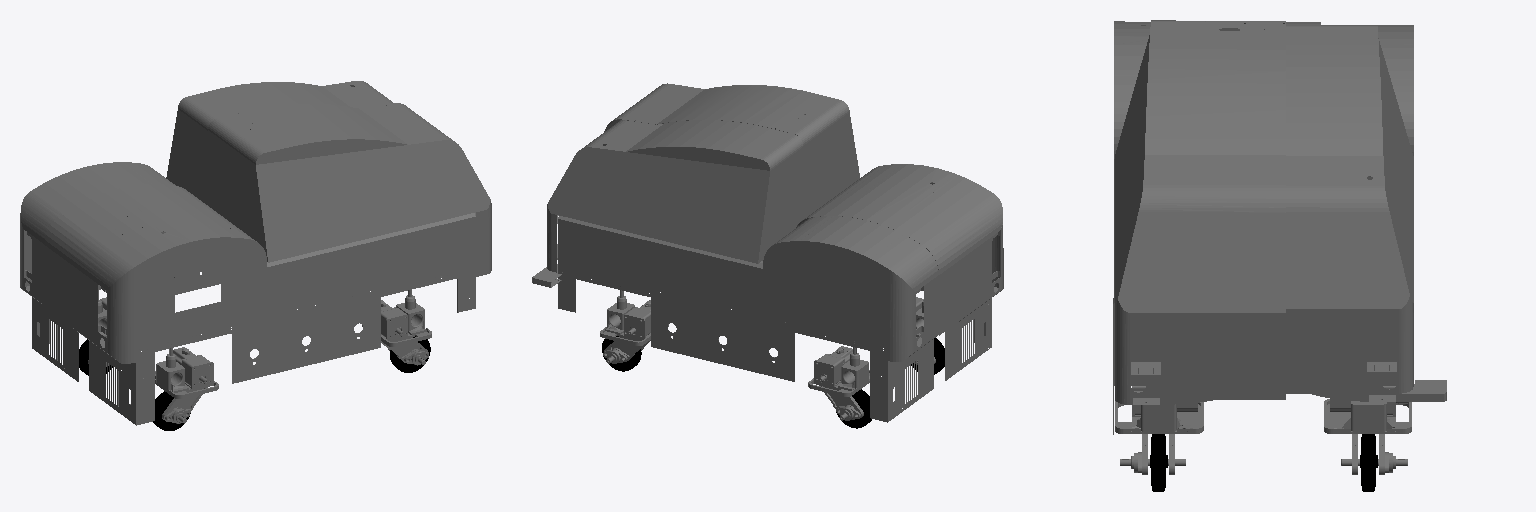
robot.urdf — panthera:
<?xml version="1.0" ?>
<robot name="panthera" xmlns:xacro="http://ros.org/wiki/xacro">

  <material name="blue">
    <color rgba="0 0 0.8 1"/>
  </material>

  <material name="black">
    <color rgba="0 0 0 1"/>
  </material>

  <material name="white">
    <color rgba="1 1 1 1"/>
  </material>

  <material name="gray">
    <color rgba="0.5 0.5 0.5 1"/>
  </material>

  <!-- links -->
  <link name="base_footprint"/>

  <joint name="base_joint" type="fixed">
    <parent link="base_footprint"/>
    <child link="base_link"/>
    <origin xyz="0.0 0.0 0.010" rpy="0 0 0"/>
  </joint>

  <link name="base_link">
    <visual>
        <origin xyz="0 0 0" rpy="0 0 0"/>
        <geometry>
            <box size="0.20597 0.216606 0.169247"/>
        </geometry>
        <material name="gray"/>
    </visual>
    <collision>
        <origin xyz="0 0 0" rpy="0 0 0"/>
        <geometry>
            <box size="0.20597 0.216606 0.169247"/>
        </geometry>
    </collision>
    <inertial>
      <origin xyz="0 0 0" rpy="0 0 0"/>
      <mass value="1"/>
      <inertia ixx="0.166667" ixy="0.000000" ixz="0.000000" iyy="0.166667" iyz="0.000000" izz="0.166667"/>
    </inertial>
  </link>

  <link name="base_left">
    <visual>
      <geometry>
        <mesh filename="package://panthera_description/meshes/base_left.stl"/>
      </geometry>
      <material name="gray"/>
      <origin xyz="0.0 0 0" rpy="0 0 0"/>
    </visual>
    <collision>
      <geometry>
        <mesh filename="package://panthera_description/meshes/base_left.stl"/>
      </geometry>
      <origin xyz="0.0 0 0" rpy="0 0 0"/>
    </collision>
    <inertial>
      <origin xyz="0 0.35 0" rpy="0 0 0"/>
      <mass value="1"/>
      <inertia ixx="0.166667" ixy="0.000000" ixz="0.000000" iyy="0.166667" iyz="0.000000" izz="0.166667"/>
    </inertial>
  </link>

  <link name="base_left_cover">
    <visual>
      <geometry>
        <mesh filename="package://panthera_description/meshes/base_left_cover.dae"/>
      </geometry>
      <material name="gray"/>
      <origin xyz="0.0 0 0" rpy="0 0 0"/>
    </visual>
    <collision>
      <geometry>
        <mesh filename="package://panthera_description/meshes/base_left_cover.dae"/>
      </geometry>
      <origin xyz="0.0 0 0" rpy="0 0 0"/>
    </collision>
    <inertial>
      <origin xyz="0 0 0" rpy="0 0 0"/>
      <mass value="1"/>
      <inertia ixx="0.166667" ixy="0.000000" ixz="0.000000" iyy="0.166667" iyz="0.000000" izz="0.166667"/>
    </inertial>
  </link>

  <link name="base_right">
    <visual>
      <geometry>
        <mesh filename="package://panthera_description/meshes/base_right.stl"/>
      </geometry>
      <material name="gray"/>
      <origin xyz="0 0 0" rpy="0 0 0"/>
    </visual>
    <collision>
      <geometry>
        <mesh filename="package://panthera_description/meshes/base_right.stl"/>
      </geometry>
      <origin xyz="0 0 0" rpy="0 0 0"/>
    </collision>
    <inertial>
      <origin xyz="0 -0.35 0" rpy="0 0 0"/>
      <mass value="1"/>
      <inertia ixx="0.166667" ixy="0.000000" ixz="0.000000" iyy="0.166667" iyz="0.000000" izz="0.166667"/>
    </inertial>
  </link>

  <link name="base_right_cover">
    <visual>
      <geometry>
        <mesh filename="package://panthera_description/meshes/base_right_cover.dae"/>
      </geometry>
      <material name="gray"/>
      <origin xyz="0 0 0" rpy="0 0 0"/>
    </visual>
    <collision>
      <geometry>
        <mesh filename="package://panthera_description/meshes/base_right_cover.dae"/>
      </geometry>
      <origin xyz="0 0 0" rpy="0 0 0"/>
    </collision>
    <inertial>
      <origin xyz="0 0 0" rpy="0 0 0"/>
      <mass value="1"/>
      <inertia ixx="0.166667" ixy="0.000000" ixz="0.000000" iyy="0.166667" iyz="0.000000" izz="0.166667"/>
    </inertial>
  </link>

  <link name="fl_steering_link">
    <visual>
      <geometry>
        <mesh filename="package://panthera_description/meshes/wheel_holder_front_left.stl"/>
      </geometry>
      <material name="gray"/>
      <origin xyz="0.0 0.0 0.0" rpy="0 0 0"/>
    </visual>
    <collision>
      <geometry>
        <mesh filename="package://panthera_description/meshes/wheel_holder_front_left.stl"/>
      </geometry>
      <origin xyz="0.0 0.0 0.0" rpy="0 0 0"/>
    </collision>
    <inertial>
      <origin rpy="0 0 0" xyz="0 0 0"/>
      <mass value="1"/>
      <inertia ixx="0.166667" ixy="0.000000" ixz="0.000000" iyy="0.166667" iyz="0.000000" izz="0.166667"/>
    </inertial>
  </link>

  <link name="fr_steering_link">
    <visual>
      <geometry>
        <mesh filename="package://panthera_description/meshes/wheel_holder_front_right.stl"/>
      </geometry>
      <material name="gray"/>
      <origin xyz="0.0 0.0 0.0" rpy="0 0 0"/>
    </visual>
    <collision>
      <geometry>
        <mesh filename="package://panthera_description/meshes/wheel_holder_front_right.stl"/>
      </geometry>
      <origin xyz="0.0 0.0 0.0" rpy="0 0 0"/>
    </collision>
    <inertial>
      <origin rpy="0 0 0" xyz="0 0 0"/>
      <mass value="1"/>
      <inertia ixx="0.166667" ixy="0.000000" ixz="0.000000" iyy="0.166667" iyz="0.000000" izz="0.166667"/>
    </inertial>
  </link>

  <link name="rl_steering_link">
    <visual>
      <geometry>
        <mesh filename="package://panthera_description/meshes/wheel_holder_rear_left.stl"/>
      </geometry>
      <material name="gray"/>
      <origin xyz="0.0 0.0 0.0" rpy="0 0 0"/>
    </visual>
    <collision>
      <geometry>
        <mesh filename="package://panthera_description/meshes/wheel_holder_rear_left.stl"/>
      </geometry>
      <origin xyz="0.0 0.0 0.0" rpy="0 0 0"/>
    </collision>
    <inertial>
      <origin rpy="0 0 0" xyz="0 0 0"/>
      <mass value="1"/>
      <inertia ixx="0.166667" ixy="0.000000" ixz="0.000000" iyy="0.166667" iyz="0.000000" izz="0.166667"/>
    </inertial>
  </link>

  <link name="rr_steering_link">
    <visual>
      <geometry>
        <mesh filename="package://panthera_description/meshes/wheel_holder_rear_right.stl"/>
      </geometry>
      <material name="gray"/>
      <origin xyz="0.0 0.0 0.0" rpy="0 0 0"/>
    </visual>
    <collision>
      <geometry>
        <mesh filename="package://panthera_description/meshes/wheel_holder_rear_right.stl"/>
      </geometry>
      <origin xyz="0.0 0.0 0.0" rpy="0 0 0"/>
    </collision>
    <inertial>
      <origin rpy="0 0 0" xyz="0 0 0"/>
      <mass value="1"/>
      <inertia ixx="0.166667" ixy="0.000000" ixz="0.000000" iyy="0.166667" iyz="0.000000" izz="0.166667"/>
    </inertial>
  </link>

  <link name="fl_wheel_link">
    <visual>
      <geometry>
        <mesh filename="package://panthera_description/meshes/l_wheel.stl"/>
      </geometry>
      <material name="black"/>
      <origin xyz="0.0 0.0 0.0" rpy="0 0 0"/>
    </visual>
    <collision>
      <geometry>
        <mesh filename="package://panthera_description/meshes/l_wheel.stl"/>
      </geometry>
      <origin xyz="0.0 0.0 0.0" rpy="0 0 0"/>
    </collision>
    <inertial>
      <origin rpy="0 0 0" xyz="0 0 0"/>
      <mass value="1"/>
      <inertia ixx="0.166667" ixy="0.000000" ixz="0.000000" iyy="0.166667" iyz="0.000000" izz="0.166667"/>
    </inertial>
  </link>

  <link name="rl_wheel_link">
    <visual>
      <geometry>
        <mesh filename="package://panthera_description/meshes/l_wheel.stl"/>
      </geometry>
      <material name="black"/>
      <origin xyz="0.0 0.0 0.0" rpy="0 0 0"/>
    </visual>
    <collision>
      <geometry>
        <mesh filename="package://panthera_description/meshes/l_wheel.stl"/>
      </geometry>
      <origin xyz="0.0 0.0 0.0" rpy="0 0 0"/>
    </collision>
    <inertial>
      <origin rpy="0 0 0" xyz="0 0 0"/>
      <mass value="1"/>
      <inertia ixx="0.166667" ixy="0.000000" ixz="0.000000" iyy="0.166667" iyz="0.000000" izz="0.166667"/>
    </inertial>
  </link>

  <link name="fr_wheel_link">
    <visual>
      <geometry>
        <mesh filename="package://panthera_description/meshes/r_wheel.stl"/>
      </geometry>
      <material name="black"/>
      <origin xyz="0.0 0.0 0.0" rpy="0 0 0"/>
    </visual>
    <collision>
      <geometry>
        <mesh filename="package://panthera_description/meshes/r_wheel.stl"/>
      </geometry>
      <origin xyz="0.0 0.0 0.0" rpy="0 0 0"/>
    </collision>
    <inertial>
      <origin rpy="0 0 0" xyz="0 0 0"/>
      <mass value="1"/>
      <inertia ixx="0.166667" ixy="0.000000" ixz="0.000000" iyy="0.166667" iyz="0.000000" izz="0.166667"/>
    </inertial>
  </link>

  <link name="rr_wheel_link">
    <visual>
      <geometry>
        <mesh filename="package://panthera_description/meshes/r_wheel.stl"/>
      </geometry>
      <material name="black"/>
      <origin xyz="0.0 0.0 0.0" rpy="0 0 0"/>
    </visual>
    <collision>
      <geometry>
        <mesh filename="package://panthera_description/meshes/r_wheel.stl"/>
      </geometry>
      <origin xyz="0.0 0.0 0.0" rpy="0 0 0"/>
    </collision>
    <inertial>
      <origin rpy="0 0 0" xyz="0 0 0"/>
      <mass value="1"/>
      <inertia ixx="0.166667" ixy="0.000000" ixz="0.000000" iyy="0.166667" iyz="0.000000" izz="0.166667"/>
    </inertial>
  </link>

  <!-- Hokuyo Laser -->
  <link name="laser_scan">
    <collision>
      <origin xyz="0 0 0" rpy="0 0 0"/>
      <geometry>
    <box size="0.1 0.1 0.1"/>
      </geometry>
    </collision>

    <visual>
      <origin xyz="0 0 0" rpy="0 0 0"/>
      <geometry>
        <mesh filename="package://panthera_description/meshes/hokuyo.dae"/>
      </geometry>
    </visual>

    <inertial>
      <mass value="1e-5" />
      <origin xyz="0 0 0" rpy="0 0 0"/>
      <inertia ixx="1e-6" ixy="0" ixz="0" iyy="1e-6" iyz="0" izz="1e-6" />
    </inertial>
  </link>

  <!-- joints -->
  <joint name="base_left_joint" type="prismatic">
    <axis xyz="0 1 0"/>
    <limit effort="10.0" lower="0" upper="0.25" velocity="0.1"/>
    <parent link="base_link"/>
    <child link="base_left"/>
    <origin xyz="0 0.35 0" rpy="0 0 0"/>
  </joint>

  <joint name="base_left_cover_joint" type="fixed">
    <parent link="base_left"/>
    <child link="base_left_cover"/>
    <origin xyz="0 0.15 -0.1" rpy="0 0 0"/>
  </joint>

  <joint name="base_right_joint" type="prismatic">
    <axis xyz="0 1 0"/>
    <limit effort="10.0" lower="-0.25" upper="0" velocity="0.1"/>
    <parent link="base_link"/>
    <child link="base_right"/>
    <origin xyz="0 -0.35 0" rpy="0 0 0"/>
  </joint>

  <joint name="base_right_cover_joint" type="fixed">
    <parent link="base_right"/>
    <child link="base_right_cover"/>
    <origin xyz="0 -0.15 -0.1" rpy="0 0 0"/>
  </joint>

  <joint name="fl_steering_link_joint" type="revolute">
    <axis xyz="0 0 1"/>
    <limit effort="1000.0" lower="-1.571" upper="1.571" velocity="0.5"/>
    <origin xyz="0.654 0.0 0.05" rpy="0 0 0"/>
    <parent link="base_left"/>
    <child link="fl_steering_link"/>
  </joint>

  <joint name="fr_steering_link_joint" type="revolute">
    <axis xyz="0 0 1"/>
    <limit effort="1000.0" lower="-1.571" upper="1.571" velocity="0.5"/>
    <origin xyz="0.654 0.0 0.05" rpy="0 0 0"/>
    <parent link="base_right"/>
    <child link="fr_steering_link"/>
  </joint>

  <joint name="rl_steering_link_joint" type="revolute">
    <axis xyz="0 0 1"/>
    <limit effort="1000.0" lower="-1.571" upper="1.571" velocity="0.5"/>
    <origin xyz="-0.654 0.0 0.05" rpy="0 0 0"/>
    <parent link="base_left"/>
    <child link="rl_steering_link"/>
  </joint>

  <joint name="rr_steering_link_joint" type="revolute">
    <axis xyz="0 0 1"/>
    <limit effort="1000.0" lower="-1.571" upper="1.571" velocity="0.5"/>
    <origin xyz="-0.654 0.0 0.05" rpy="0 0 0"/>
    <parent link="base_right"/>
    <child link="rr_steering_link"/>
  </joint>

  <joint name="fl_wheel_link_joint" type="continuous">
    <axis xyz="0 1 0"/>
    <origin xyz="0 0 -0.29" rpy="0 0 0"/>
    <parent link="fl_steering_link"/>
    <child link="fl_wheel_link"/>
  </joint>

  <joint name="rl_wheel_link_joint" type="continuous">
    <axis xyz="0 1 0"/>
    <origin xyz="0 0 -0.29" rpy="0 0 0"/>
    <parent link="rl_steering_link"/>
    <child link="rl_wheel_link"/>
  </joint>

  <joint name="fr_wheel_link_joint" type="continuous">
    <axis xyz="0 1 0"/>
    <origin xyz="0 0 -0.29" rpy="0 0 0"/>
    <parent link="fr_steering_link"/>
    <child link="fr_wheel_link"/>
  </joint>

  <joint name="rr_wheel_link_joint" type="continuous">
    <axis xyz="0 1 0"/>
    <origin xyz="0 0 -0.29" rpy="0 0 0"/>
    <parent link="rr_steering_link"/>
    <child link="rr_wheel_link"/>
  </joint>

  <joint name="hokuyo_joint" type="fixed">
    <axis xyz="0 1 0" />
    <origin xyz="0 0 1.03" rpy="0 0 0"/>
    <parent link="base_link"/>
    <child link="laser_scan"/>
  </joint>

  <!-- gazebo related -->

  <!-- materials -->
  <gazebo reference="base_left">
    <material>Gazebo/Grey</material>
  </gazebo>

  <gazebo reference="base_right">
    <material>Gazebo/Grey</material>
  </gazebo>

  <gazebo reference="fl_steering_link">
    <material>Gazebo/Grey</material>
  </gazebo>

  <gazebo reference="fr_steering_link">
    <material>Gazebo/Grey</material>
  </gazebo>

  <gazebo reference="rl_steering_link">
    <material>Gazebo/Grey</material>
  </gazebo>

  <gazebo reference="rr_steering_link">
    <material>Gazebo/Grey</material>
  </gazebo>

  <gazebo reference="fl_wheel_link">
    <mu1 value="0.01" />
    <mu2 value="0.01" />
    <kp  value="1000000.0" />
    <kd  value="1.0" />
    <material>Gazebo/Black</material>
  </gazebo>

  <gazebo reference="fr_wheel_link">
    <mu1 value="0.01" />
    <mu2 value="0.01" />
    <kp  value="1000000.0" />
    <kd  value="1.0" />
    <material>Gazebo/Black</material>
  </gazebo>

  <gazebo reference="rl_wheel_link">
    <mu1 value="0.01" />
    <mu2 value="0.01" />
    <kp  value="1000000.0" />
    <kd  value="1.0" />
    <material>Gazebo/Black</material>
  </gazebo>

  <gazebo reference="rr_wheel_link">
    <mu1 value="0.01" />
    <mu2 value="0.01" />
    <kp  value="1000000.0" />
    <kd  value="1.0" />
    <material>Gazebo/Black</material>
  </gazebo>

  <!-- hokuyo -->
  <gazebo reference="laser_scan">
    <sensor type="ray" name="head_hokuyo_sensor">
      <pose>0 0 0 0 0 0</pose>
      <visualize>false</visualize>
      <update_rate>40</update_rate>
      <ray>
        <scan>
          <horizontal>
            <samples>720</samples>
            <resolution>1</resolution>
            <min_angle>-1.570796</min_angle>
            <max_angle>1.570796</max_angle>
          </horizontal>
        </scan>
        <range>
          <min>0.10</min>
          <max>5.0</max>
          <resolution>0.01</resolution>
        </range>
        <noise>
          <type>gaussian</type>
          <mean>0.0</mean>
          <stddev>0.01</stddev>
        </noise>
      </ray>
      <plugin name="gazebo_ros_head_hokuyo_controller" filename="libgazebo_ros_laser.so">
        <topicName>/scan</topicName>
        <frameName>laser_scan</frameName>
      </plugin>
    </sensor>
  </gazebo>

  <!-- controllers -->
  <gazebo>
    <plugin name="gazebo_ros_control" filename="libgazebo_ros_control.so">
      <robotNamespace>/</robotNamespace>
    </plugin>
  </gazebo>

  <transmission name="base_left_joint_trans">
    <type>transmission_interface/SimpleTransmission</type>
    <actuator name="base_left_joint_motor">
      <hardwareInterface>PositionJointInterface</hardwareInterface>
      <mechanicalReduction>1</mechanicalReduction>
    </actuator>
    <joint name="base_left_joint">
      <hardwareInterface>hardware_interface/PositionJointInterface</hardwareInterface>
    </joint>
  </transmission>

  <transmission name="base_right_joint_trans">
    <type>transmission_interface/SimpleTransmission</type>
    <actuator name="base_right_joint_motor">
      <hardwareInterface>PositionJointInterface</hardwareInterface>
      <mechanicalReduction>1</mechanicalReduction>
    </actuator>
    <joint name="base_right_joint">
      <hardwareInterface>hardware_interface/PositionJointInterface</hardwareInterface>
    </joint>
  </transmission>

  <transmission name="fl_steering_trans">
    <type>transmission_interface/SimpleTransmission</type>
    <actuator name="fl_steering_motor">
      <hardwareInterface>PositionJointInterface</hardwareInterface>
      <mechanicalReduction>1</mechanicalReduction>
    </actuator>
    <joint name="fl_steering_link_joint">
      <hardwareInterface>hardware_interface/PositionJointInterface</hardwareInterface>
    </joint>
  </transmission>

  <transmission name="fr_steering_trans">
    <type>transmission_interface/SimpleTransmission</type>
    <actuator name="fr_steering_motor">
      <hardwareInterface>PositionJointInterface</hardwareInterface>
      <mechanicalReduction>1</mechanicalReduction>
    </actuator>
    <joint name="fr_steering_link_joint">
      <hardwareInterface>hardware_interface/PositionJointInterface</hardwareInterface>
    </joint>
  </transmission>

  <transmission name="rl_steering_trans">
    <type>transmission_interface/SimpleTransmission</type>
    <actuator name="rl_steering_motor">
      <hardwareInterface>PositionJointInterface</hardwareInterface>
      <mechanicalReduction>1</mechanicalReduction>
    </actuator>
    <joint name="rl_steering_link_joint">
      <hardwareInterface>hardware_interface/PositionJointInterface</hardwareInterface>
    </joint>
  </transmission>

  <transmission name="rr_steering_trans">
    <type>transmission_interface/SimpleTransmission</type>
    <actuator name="rr_steering_motor">
      <hardwareInterface>PositionJointInterface</hardwareInterface>
      <mechanicalReduction>1</mechanicalReduction>
    </actuator>
    <joint name="rr_steering_link_joint">
      <hardwareInterface>hardware_interface/PositionJointInterface</hardwareInterface>
    </joint>
  </transmission>

  <transmission name="fl_wheel_trans">
    <type>transmission_interface/SimpleTransmission</type>
    <actuator name="fl_wheel_motor">
      <hardwareInterface>VelocityJointInterface</hardwareInterface>
      <mechanicalReduction>1</mechanicalReduction>
    </actuator>
    <joint name="fl_wheel_link_joint">
      <hardwareInterface>hardware_interface/VelocityJointInterface</hardwareInterface>
    </joint>
  </transmission>

  <transmission name="fr_wheel_trans">
    <type>transmission_interface/SimpleTransmission</type>
    <actuator name="fr_wheel_motor">
      <hardwareInterface>VelocityJointInterface</hardwareInterface>
      <mechanicalReduction>1</mechanicalReduction>
    </actuator>
    <joint name="fr_wheel_link_joint">
      <hardwareInterface>hardware_interface/VelocityJointInterface</hardwareInterface>
    </joint>
  </transmission>

  <transmission name="rl_wheel_trans">
    <type>transmission_interface/SimpleTransmission</type>
    <actuator name="rl_wheel_motor">
      <hardwareInterface>VelocityJointInterface</hardwareInterface>
      <mechanicalReduction>1</mechanicalReduction>
    </actuator>
    <joint name="rl_wheel_link_joint">
      <hardwareInterface>hardware_interface/VelocityJointInterface</hardwareInterface>
    </joint>
  </transmission>

  <transmission name="rr_wheel_trans">
    <type>transmission_interface/SimpleTransmission</type>
    <actuator name="rr_wheel_motor">
      <hardwareInterface>VelocityJointInterface</hardwareInterface>
      <mechanicalReduction>1</mechanicalReduction>
    </actuator>
    <joint name="rr_wheel_link_joint">
      <hardwareInterface>hardware_interface/VelocityJointInterface</hardwareInterface>
    </joint>
  </transmission>

</robot>

--- What the picture shows (computed from the rendered views, not written in the file) ---
The picture shows the robot from 3 angles, left to right: view 1: azimuth 30°, elevation 25°; view 2: azimuth 150°, elevation 25°; view 3: azimuth 270°, elevation 25°; orthographic projection.
Robot: panthera — 15 links, 14 joints (4 revolute, 4 continuous, 2 prismatic, 4 fixed); root link base_footprint; default pose: every joint at zero.
Links seen in each view (by area): view 1: base_right_cover, base_left_cover, rr_steering_link, fr_steering_link, rr_wheel_link; view 2: base_left_cover, base_right_cover, rl_steering_link, fl_steering_link; view 3: base_right_cover, base_left_cover, fl_steering_link, fr_steering_link, fr_wheel_link, fl_wheel_link.
Boxes of the visible links, <box> form: base_right_cover: <box>44,103,491,425</box>; base_left_cover: <box>20,81,393,381</box>; rr_steering_link: <box>155,344,218,423</box>; fr_steering_link: <box>362,283,431,365</box>; rr_wheel_link: <box>153,391,190,430</box>; base_left_cover: <box>532,115,938,422</box>; base_right_cover: <box>604,83,1003,380</box>; rl_steering_link: <box>808,341,869,420</box>; fl_steering_link: <box>600,286,668,363</box>; base_right_cover: <box>1113,20,1320,434</box>; base_left_cover: <box>1282,25,1446,401</box>; fl_steering_link: <box>1324,386,1411,474</box>; fr_steering_link: <box>1115,386,1203,474</box>; fr_wheel_link: <box>1150,434,1167,491</box>; fl_wheel_link: <box>1360,434,1377,491</box>.
Bounding box of the posed robot: 2.07 × 1.11 × 1.34 m (x, y, z).
Meshes: 11 distinct files referenced, 10 mesh visuals loaded (6 binary STL, 2 Collada DAE); not drawn: 3 (reference not matched to a file when rendering).
